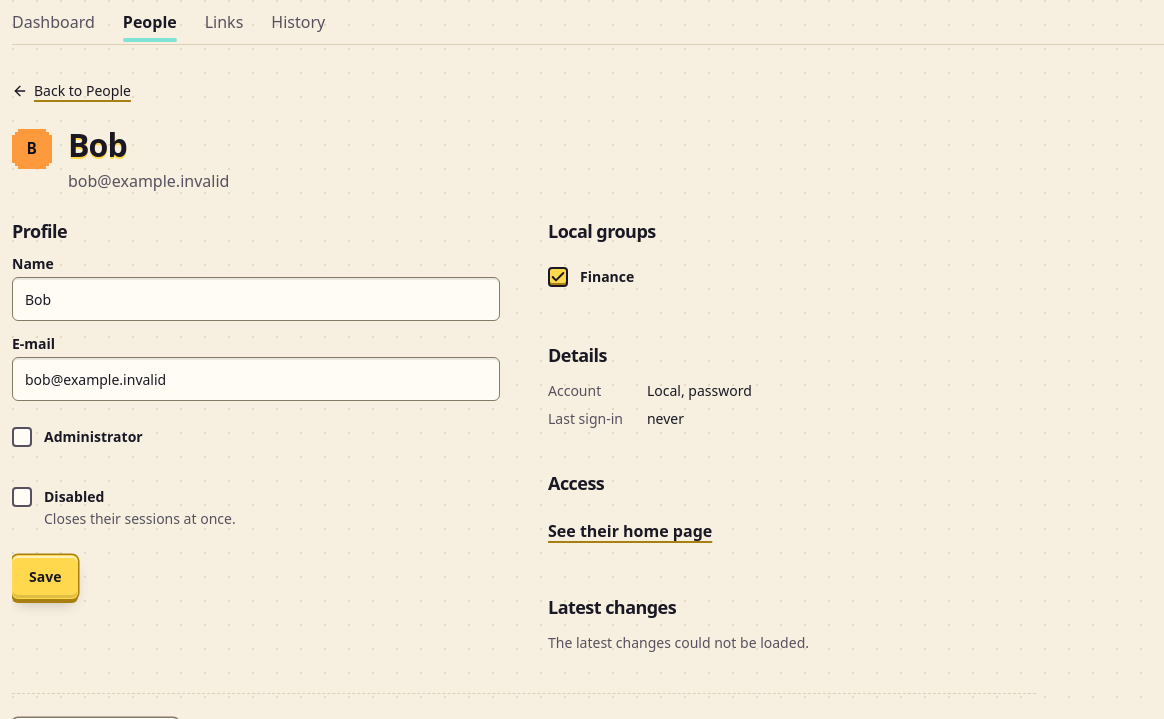
Test: PersonPreview › reads the people and groups again on opening, so the groups shown match the fresh preview
expect the heading "Bob" is shown: met, box [68,123,127,166]
Click the link "See their home page": [630, 531] box [548,520,712,542]
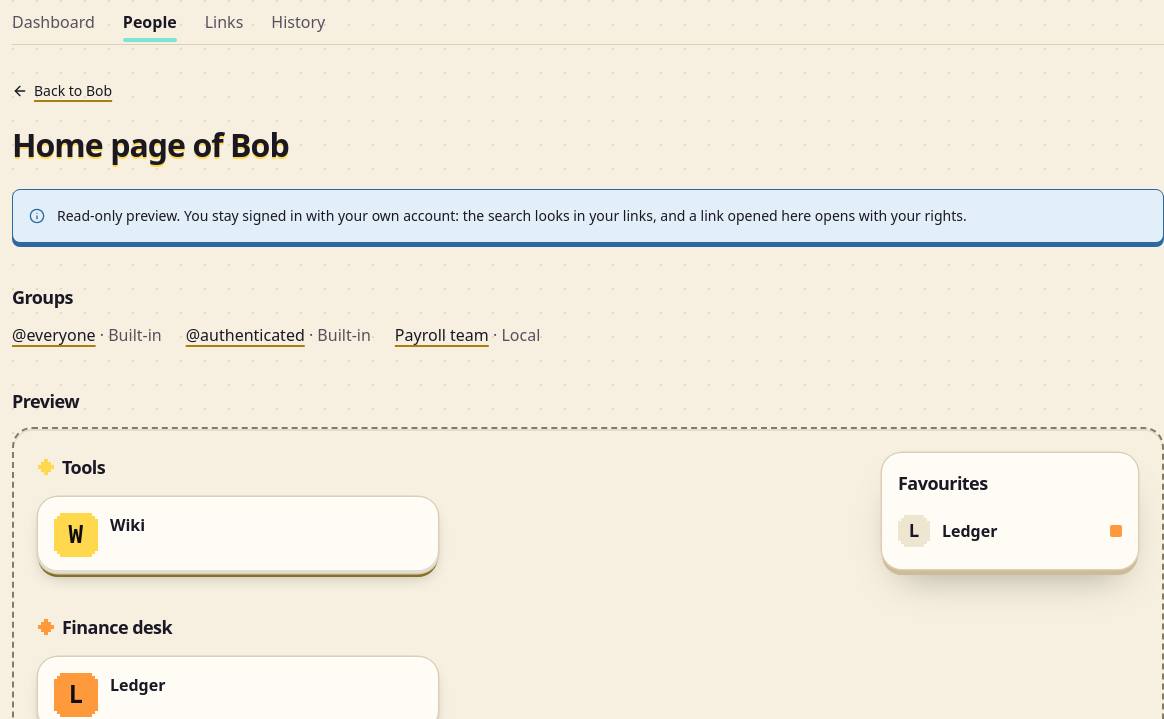
expect the list item "Payroll team · Local" is shown: met, box [395,323,540,347]
